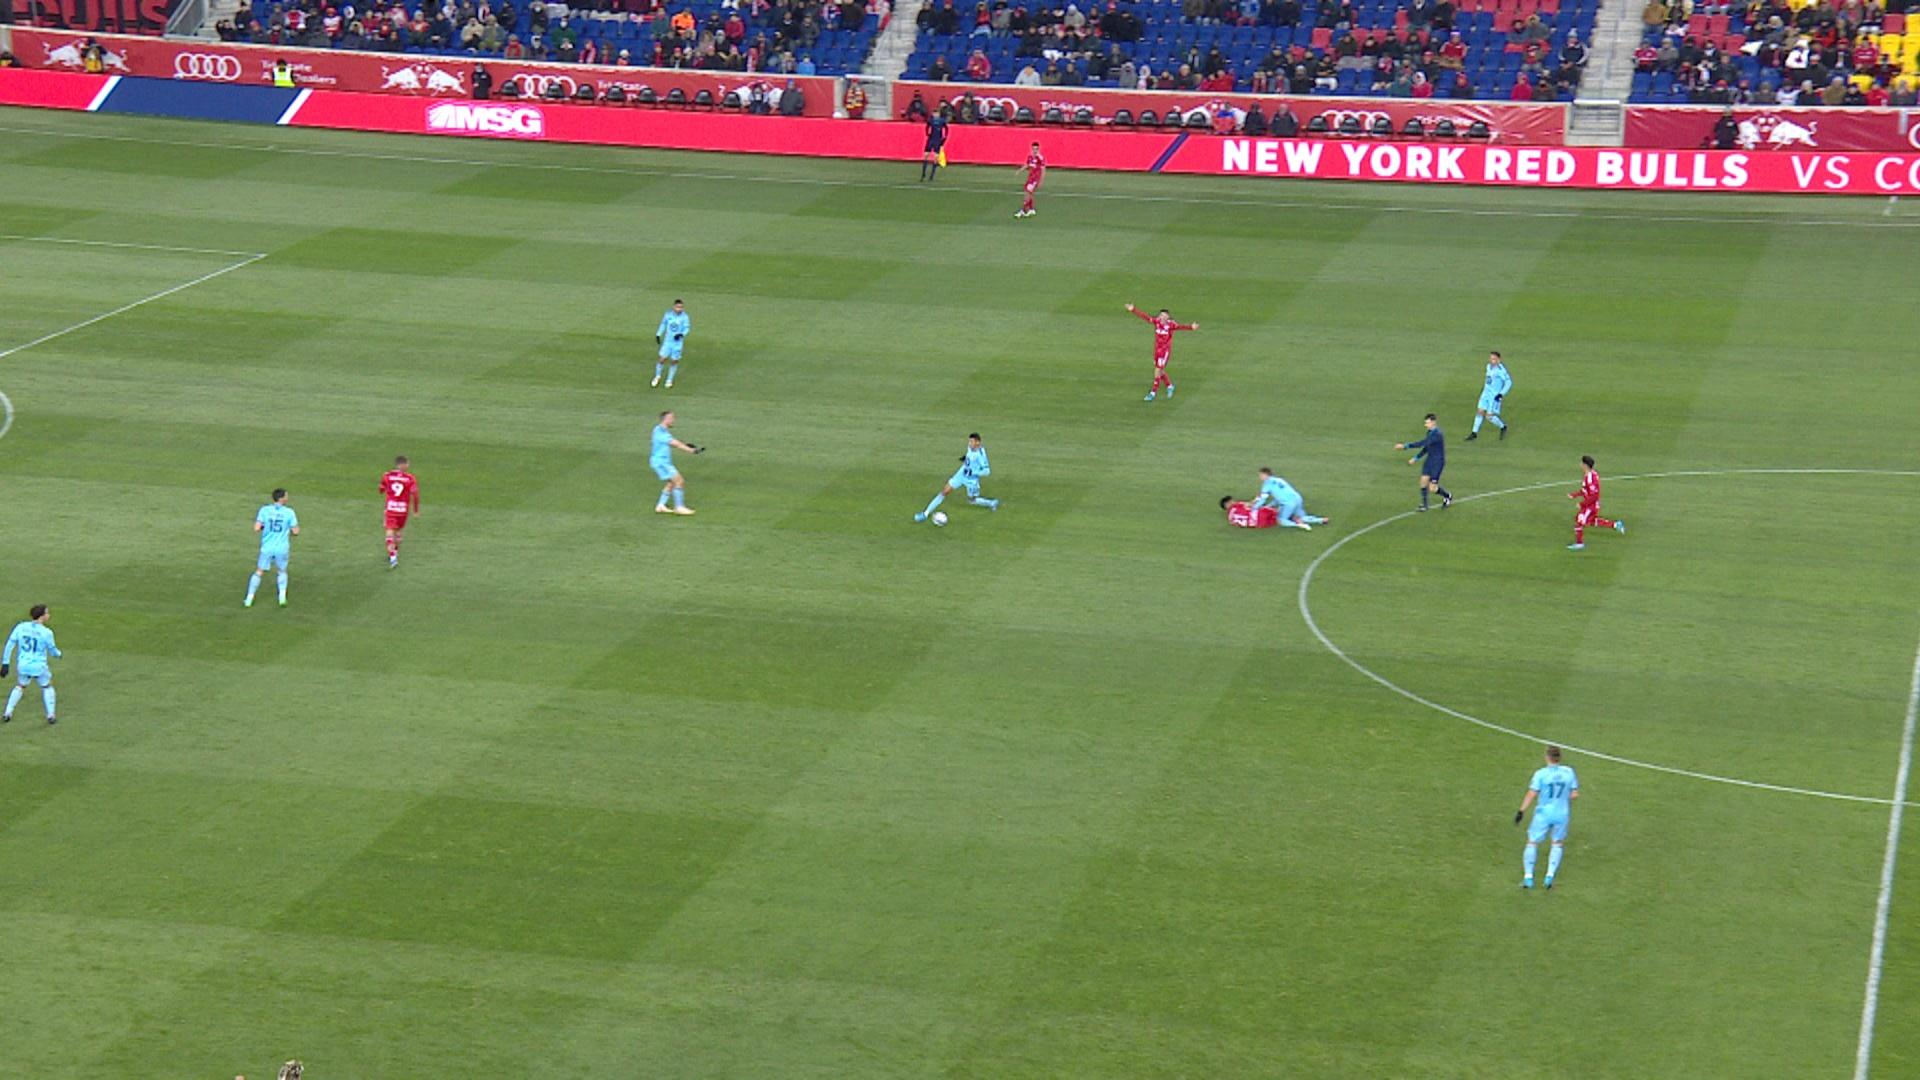football: (931, 511, 949, 527)
